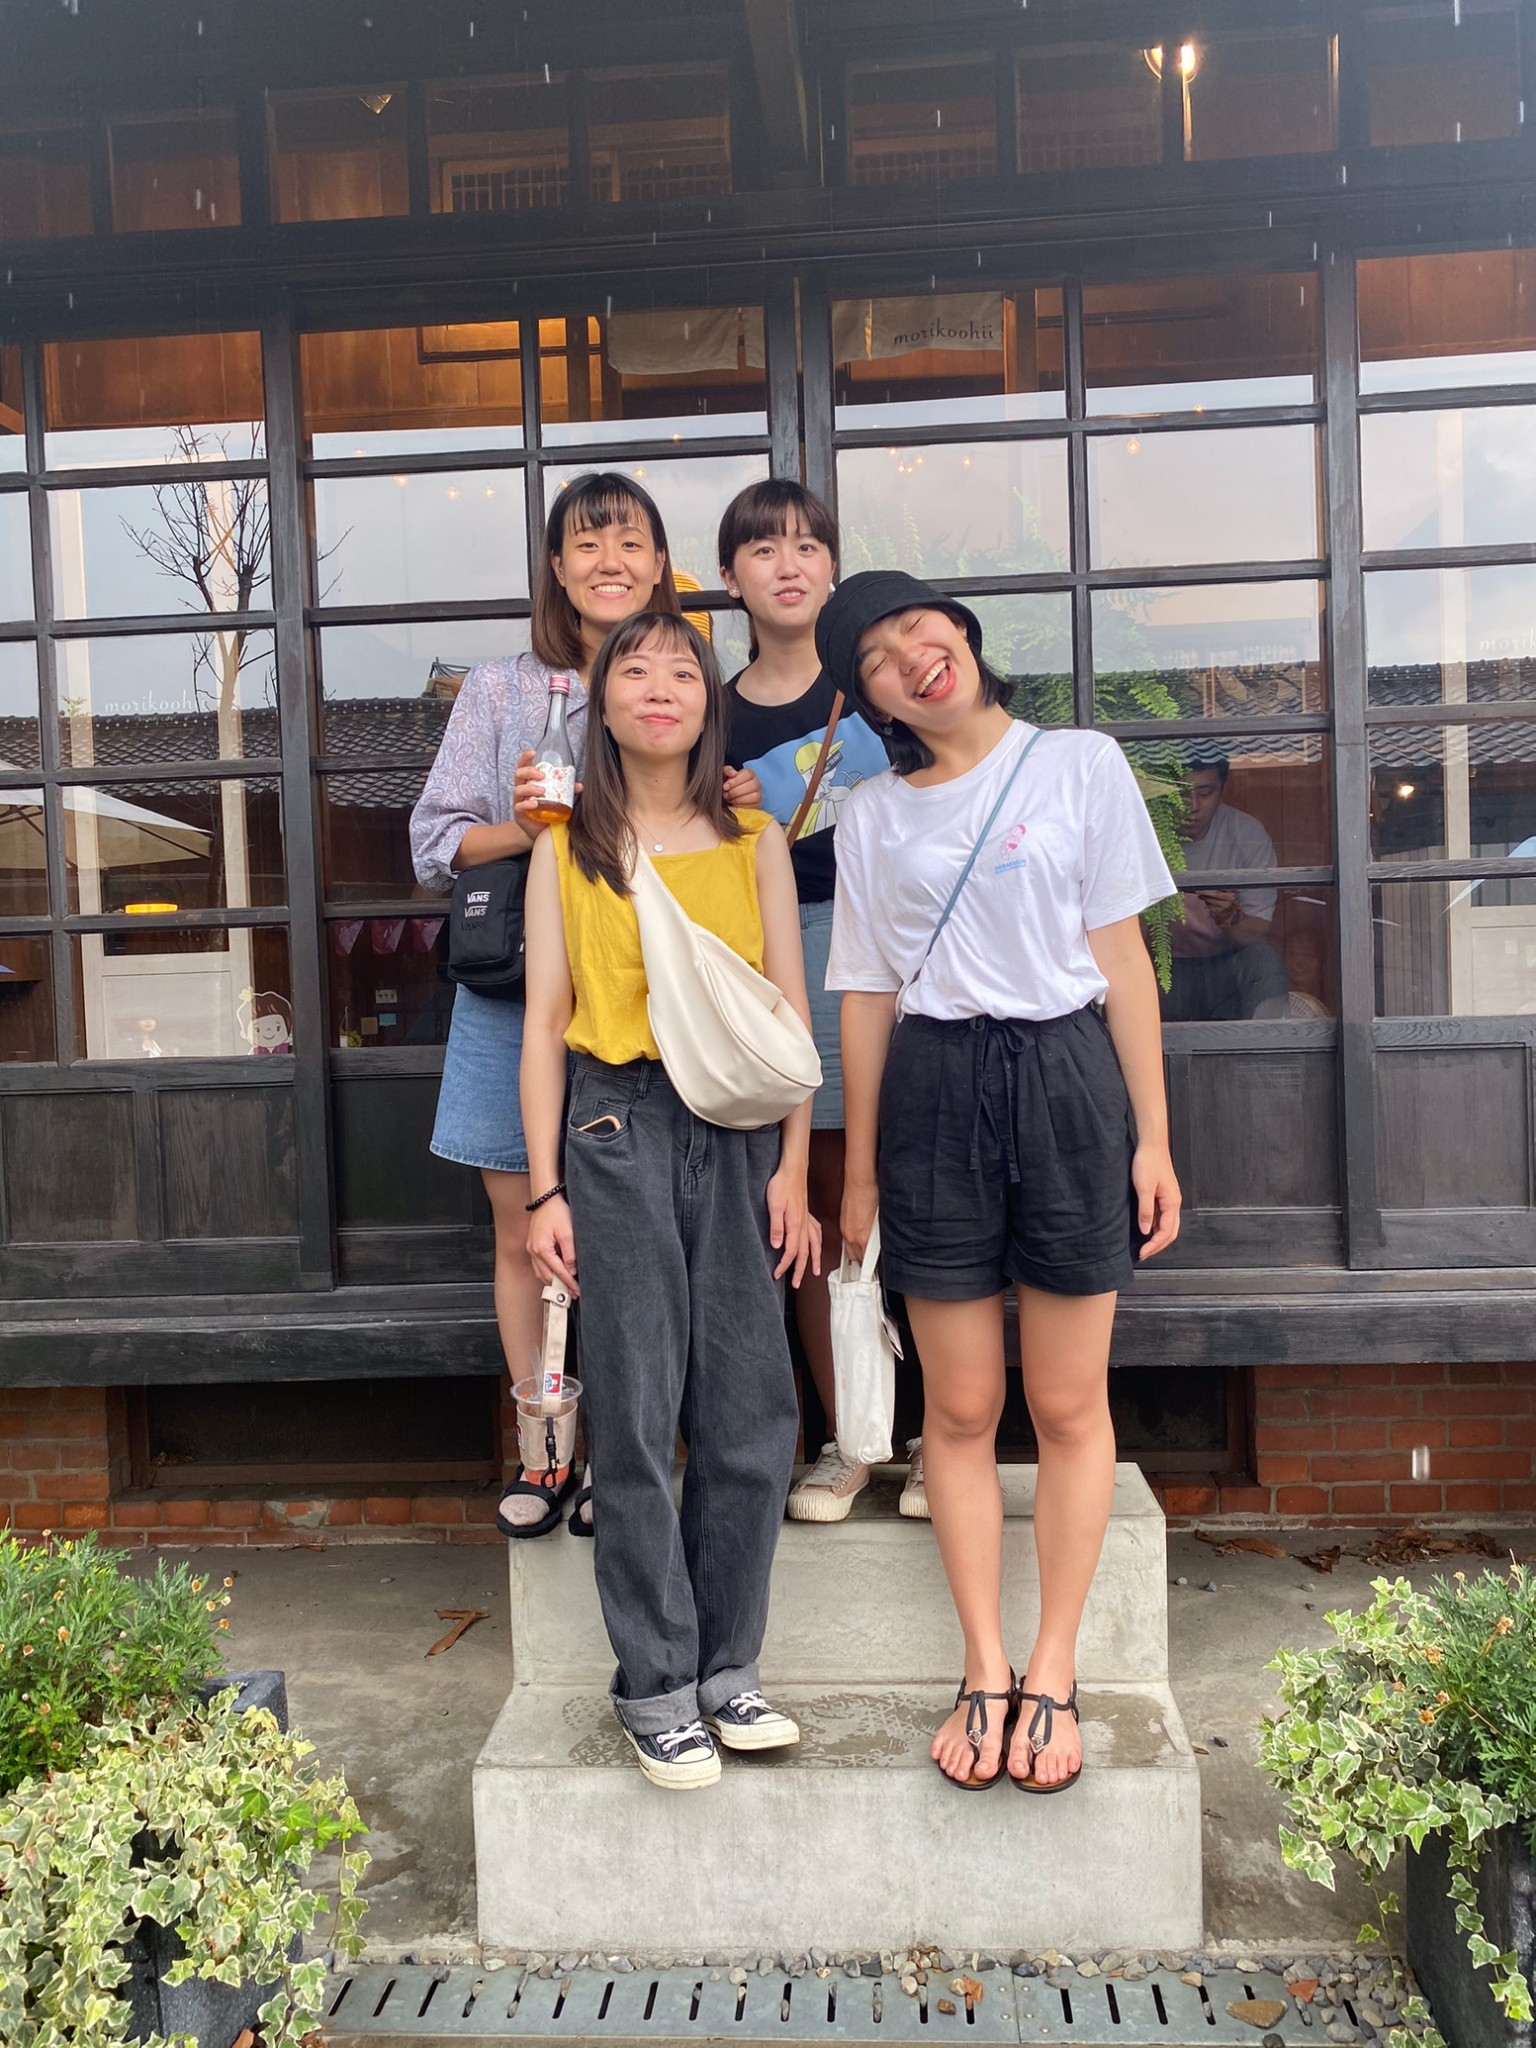people: (827, 580, 1118, 1783), (537, 615, 789, 1773), (724, 476, 947, 1534), (479, 457, 676, 1534)
